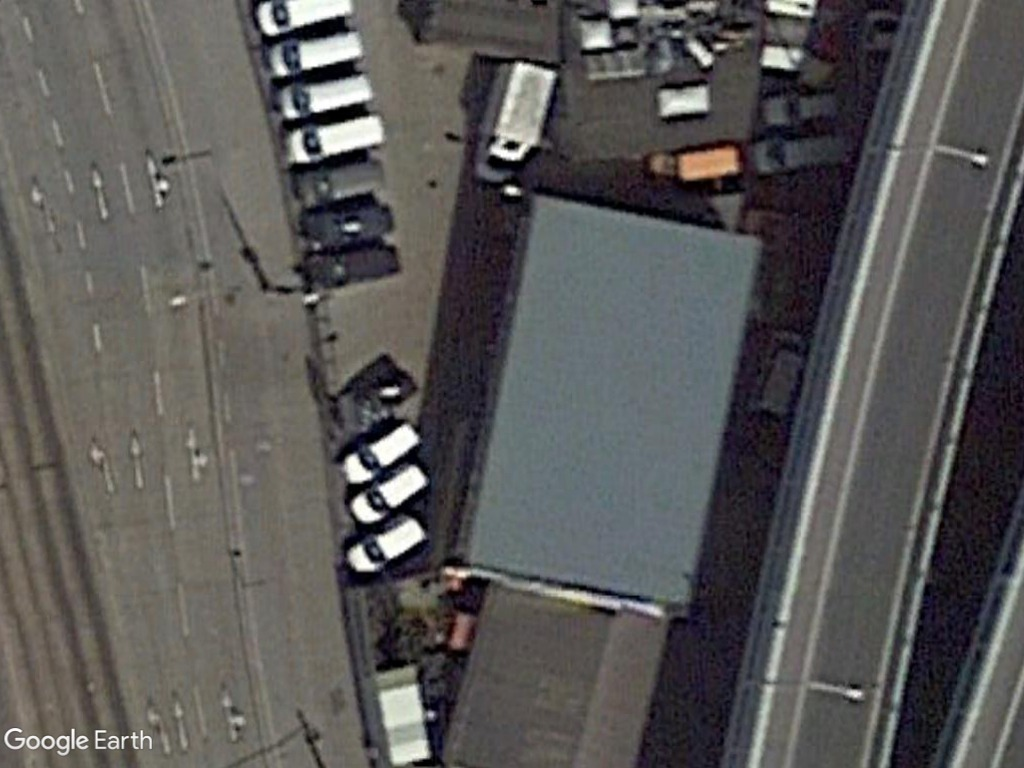car: (339, 414, 426, 489), (343, 456, 433, 526), (342, 514, 432, 579)
truck: (467, 55, 568, 189)
van: (281, 102, 393, 170), (265, 20, 366, 82), (272, 65, 377, 124)
